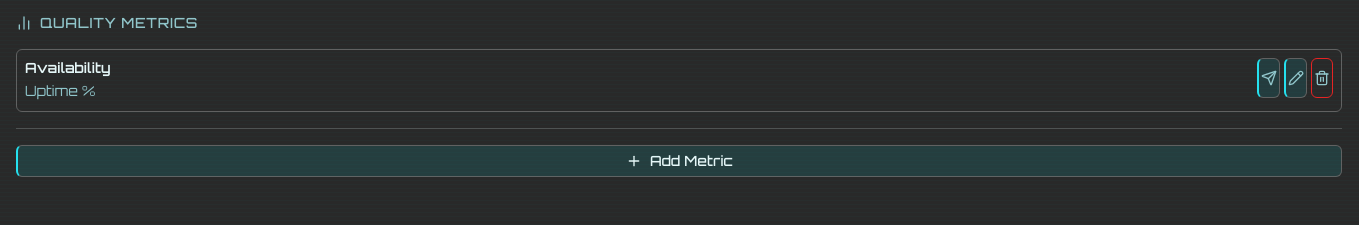
Scenario: MetricsPanel › remove button shows confirm dialog
Step 1. Click the button titled "Remove metric" → (1322, 78), box x1=1311 y1=58 x2=1333 y2=98
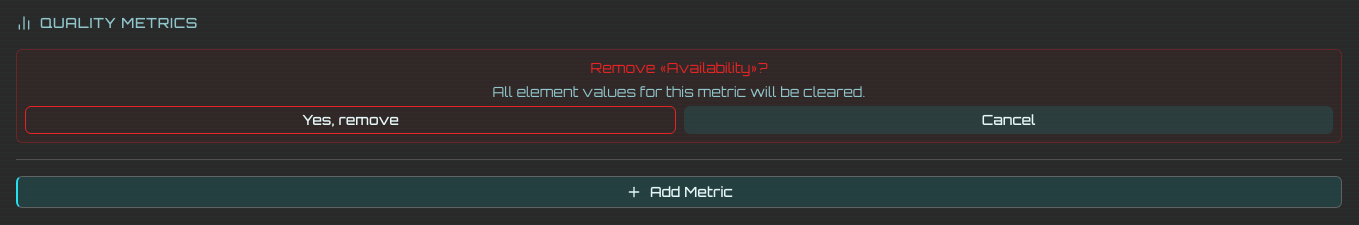
Expected: the text "Remove «Availability»?" is shown, x1=591 y1=59 x2=767 y2=76
